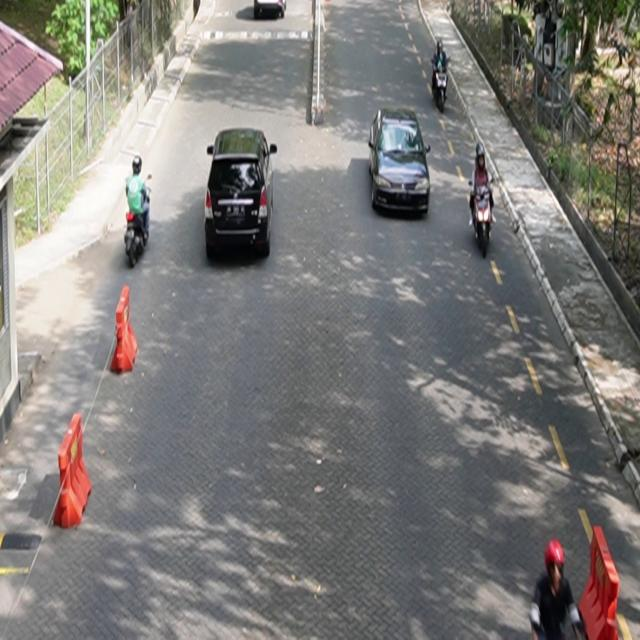car: (205, 127, 278, 260), (369, 107, 432, 217)
